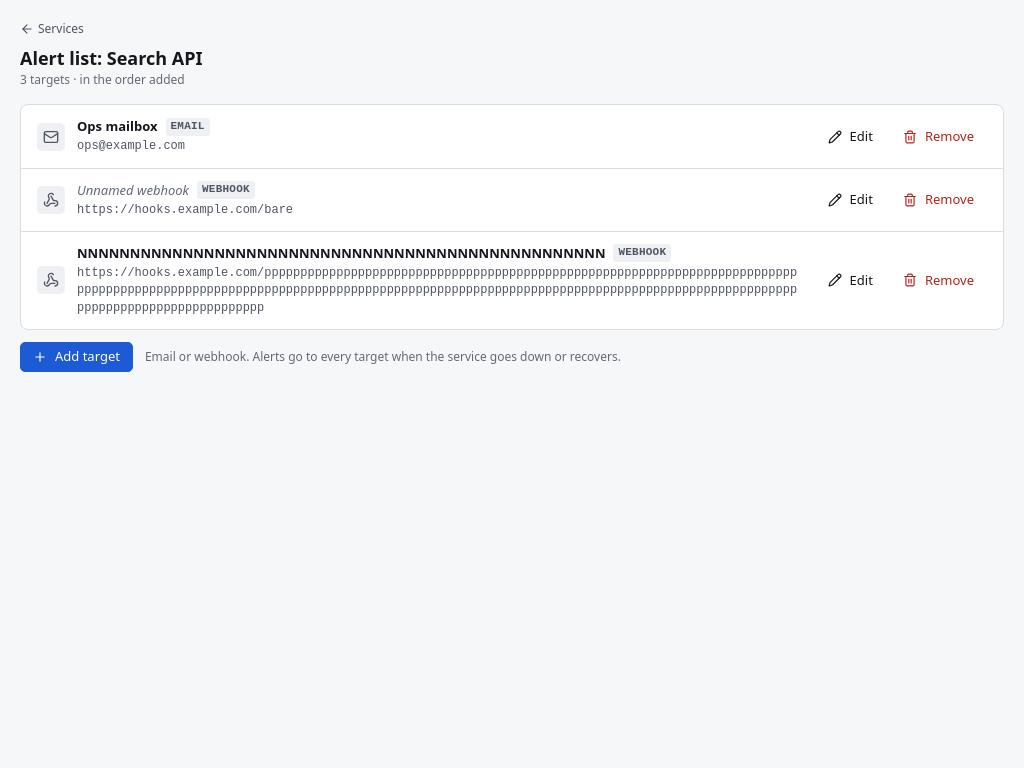
Scenario: removing a target › after a 404 not_found › removes the row, toasts, fetches again and focuses the next row’s Edit button
Expected: the list named "Notification targets" is shown, [20,104,1004,330]
Click the button with aria-label "Remove Ops mailbox".
click(938, 136)  # box [890,122,987,152]
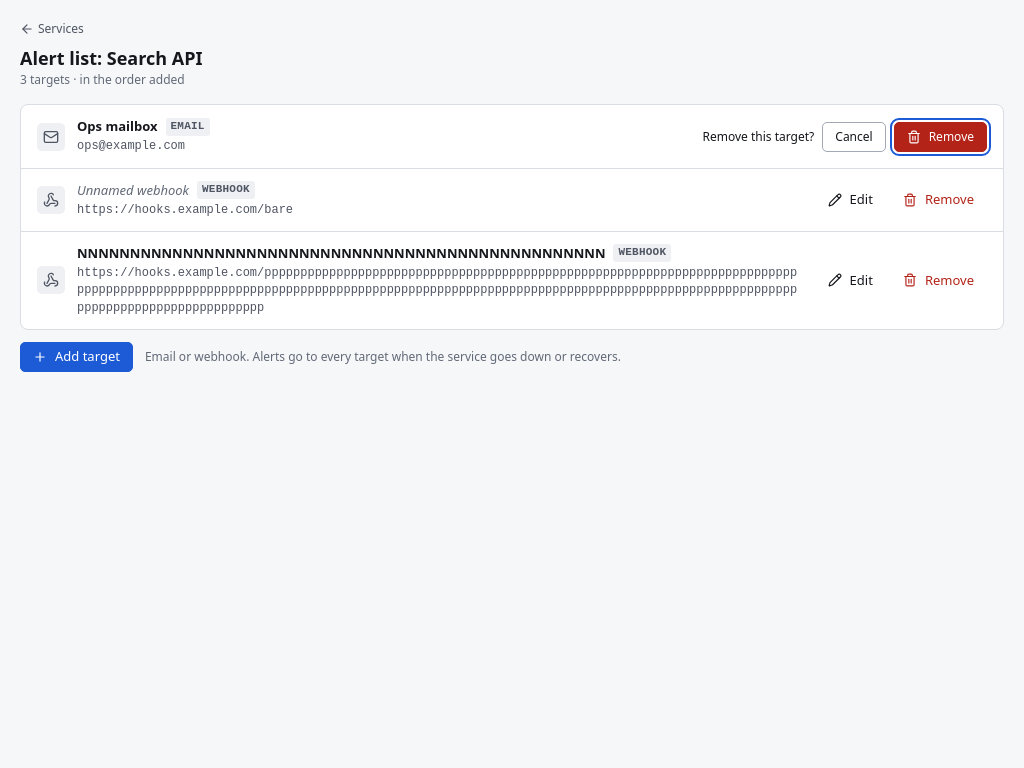
Click the button "Remove" in the row of "Remove this target?".
click(940, 136)  # box [894,122,987,152]
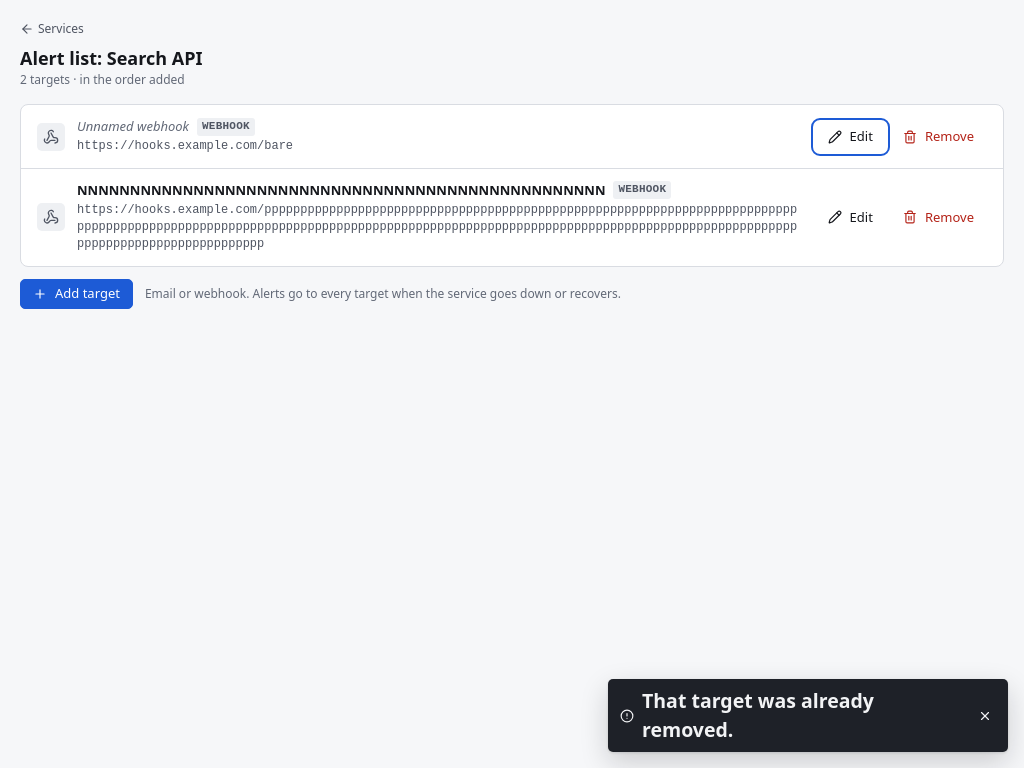
Now the heading "That target was already removed." is shown, box [642,688,874,743]
Now the number of list items is 2, box [37,117,987,153]; [21,168,1003,266]
